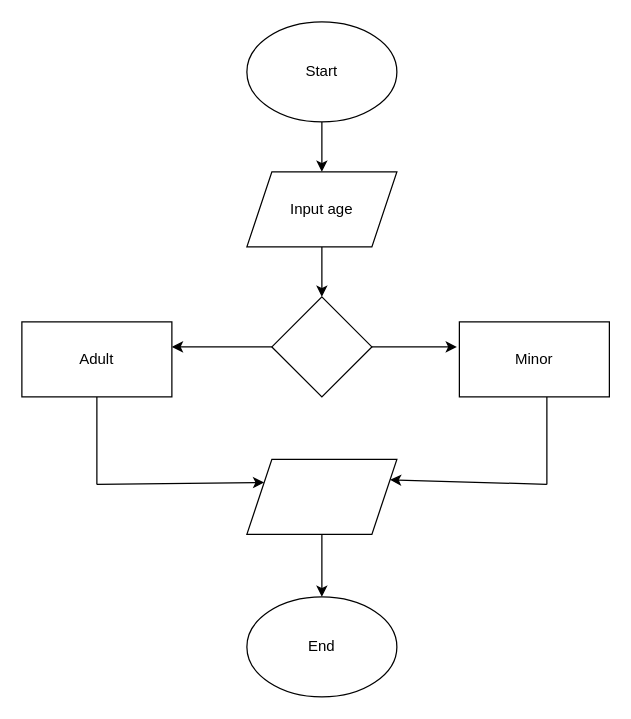
The diagram is 631 pixels wide and 719 high, and some of its shapes have lost their labels. The centre of each missing label's shape, as x and y in pixels:
"age>18" belongs at (321,346).
"Print" belongs at (321,496).
